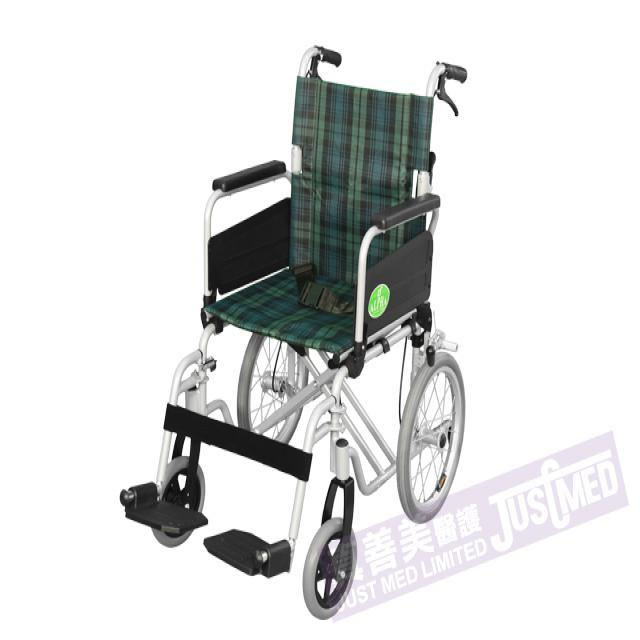wheelchair: (120, 42, 475, 618)
